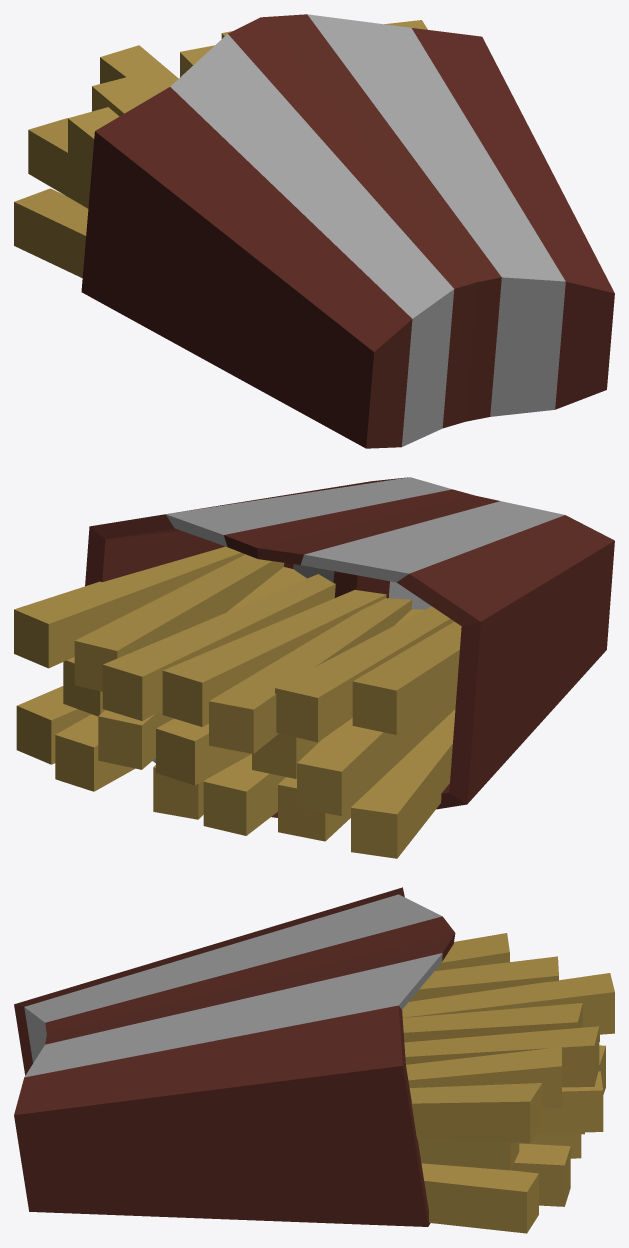
File: Fries.glb
The picture shows the model from 3 angles, top to bottom: view 1: azimuth 30°, elevation 25°; view 2: azimuth 150°, elevation 25°; view 3: azimuth 270°, elevation 25°; orthographic projection. The views are drawn at different scales.
Visible parts, largest first — view 1: Fries; view 2: Fries; view 3: Fries.
Boxes of the visible parts, x1,y1,x2,y2 form: Fries: (14,14,614,448); Fries: (14,477,614,858); Fries: (14,887,614,1233).
Size of the model in its own units: 0.0715 by 0.0442 by 0.1.
